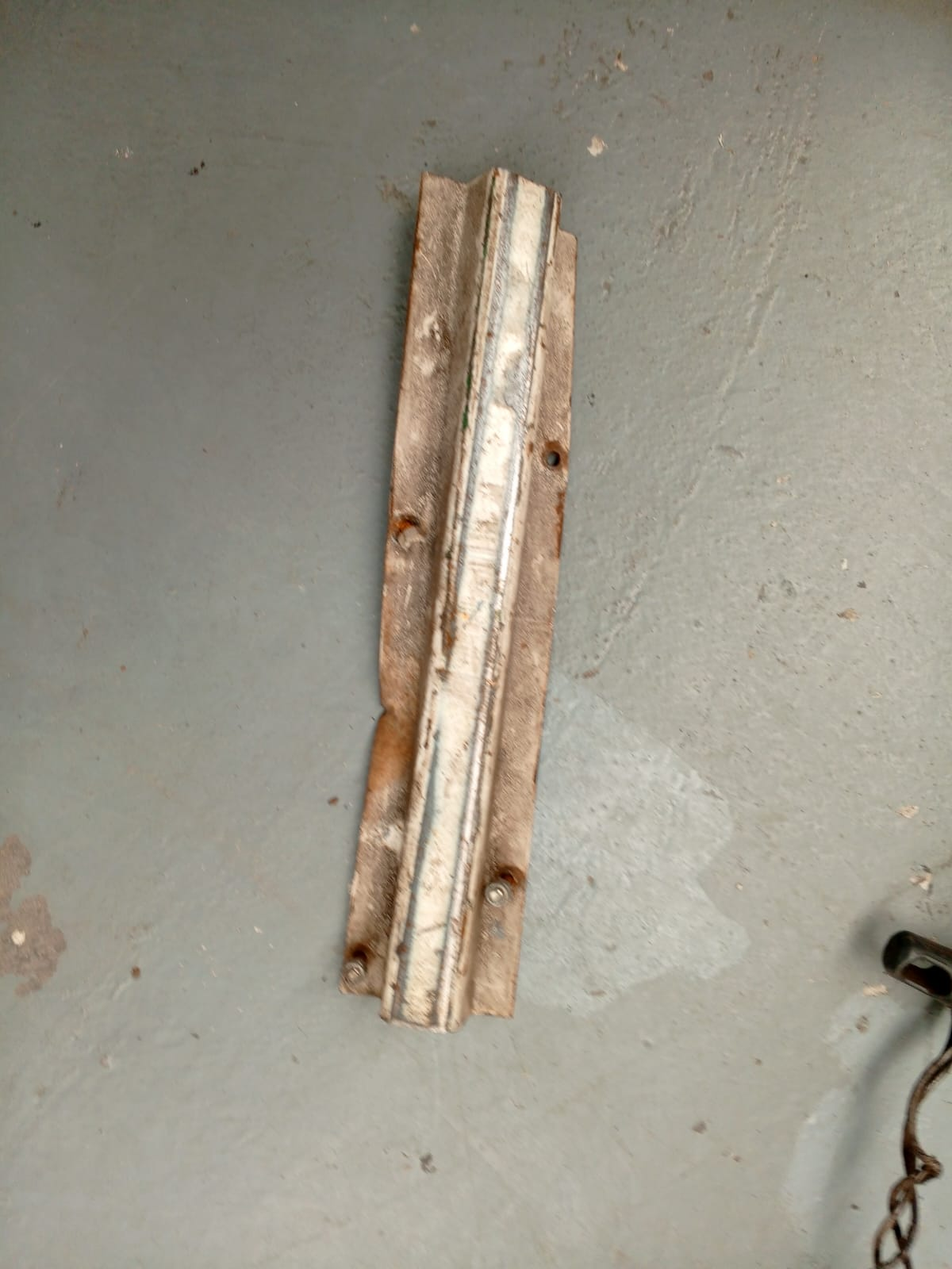Ordinario: (338, 170, 581, 1034)
